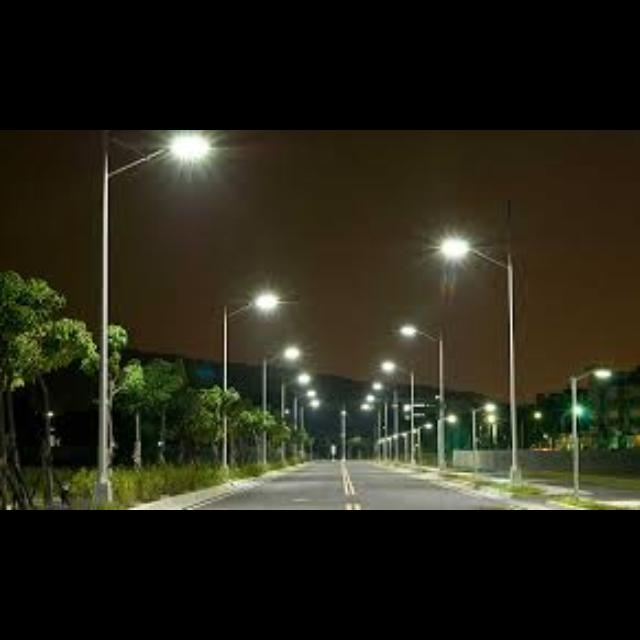Street-Lamp: (436, 215, 544, 491), (213, 273, 273, 485)
